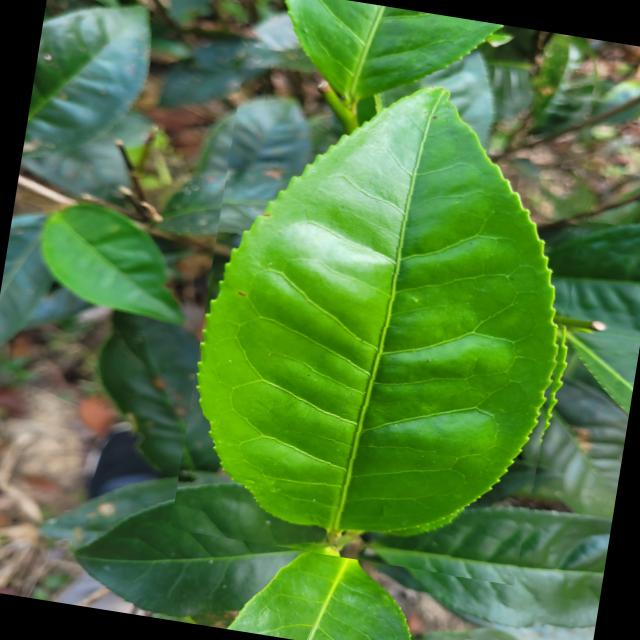Category D(7+ days, Not for Tea): (171, 46, 608, 588)
